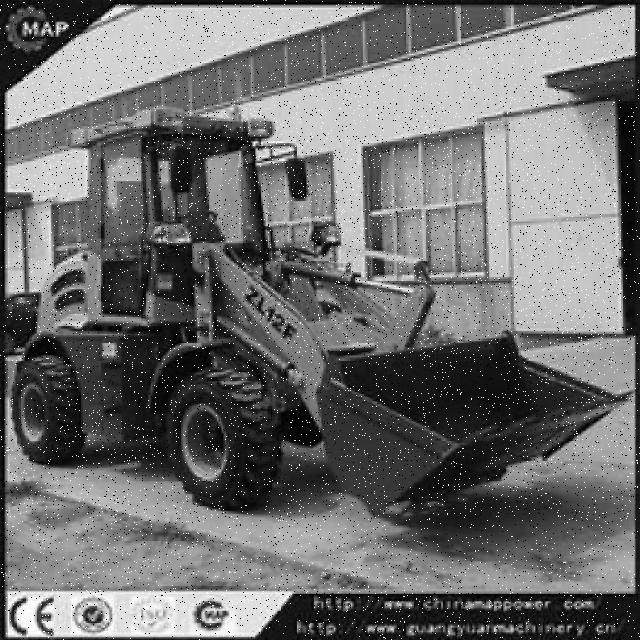Construction Equipment: (11, 107, 632, 521)
